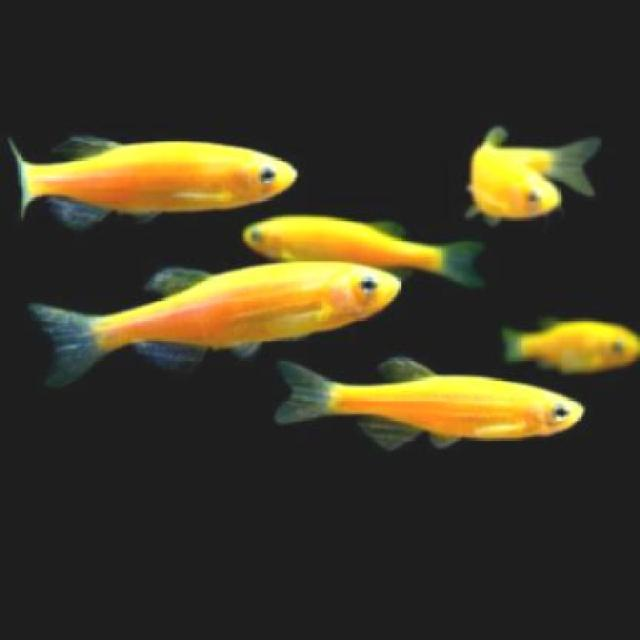ZebraFish: (34, 258, 403, 373), (278, 357, 596, 446), (17, 136, 297, 221)
